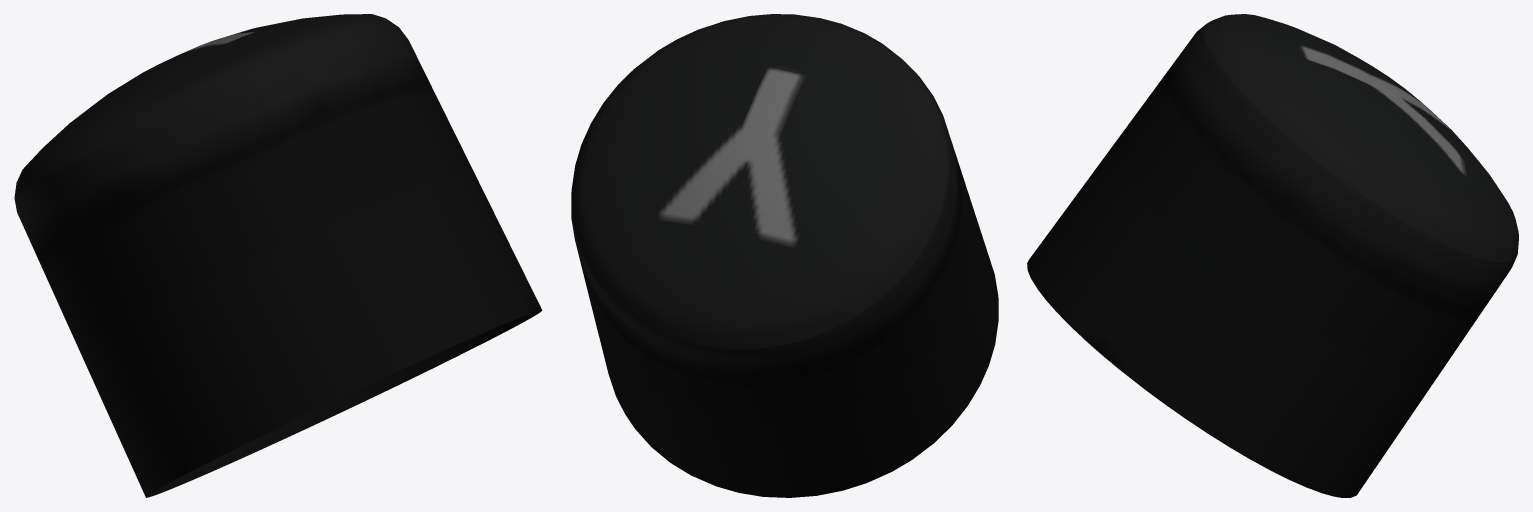
Rendered from frame_controller_right_y_button.obj.
3 renders of one model, left to right at view 1: azimuth 30°, elevation 25°; view 2: azimuth 150°, elevation 25°; view 3: azimuth 270°, elevation 25°, orthographic. The views are drawn at different scales.
Visible parts, largest first — view 1: frame_controller_right_y_button; view 2: frame_controller_right_y_button; view 3: frame_controller_right_y_button.
Boxes of the visible parts, x1,y1,x2,y2 form: frame_controller_right_y_button: (14,14,542,497); frame_controller_right_y_button: (571,14,998,497); frame_controller_right_y_button: (1027,14,1518,497).
Bounding box in the file's own units: 0.01 × 0.0109 × 0.0112.
1 material, 1 textured.
